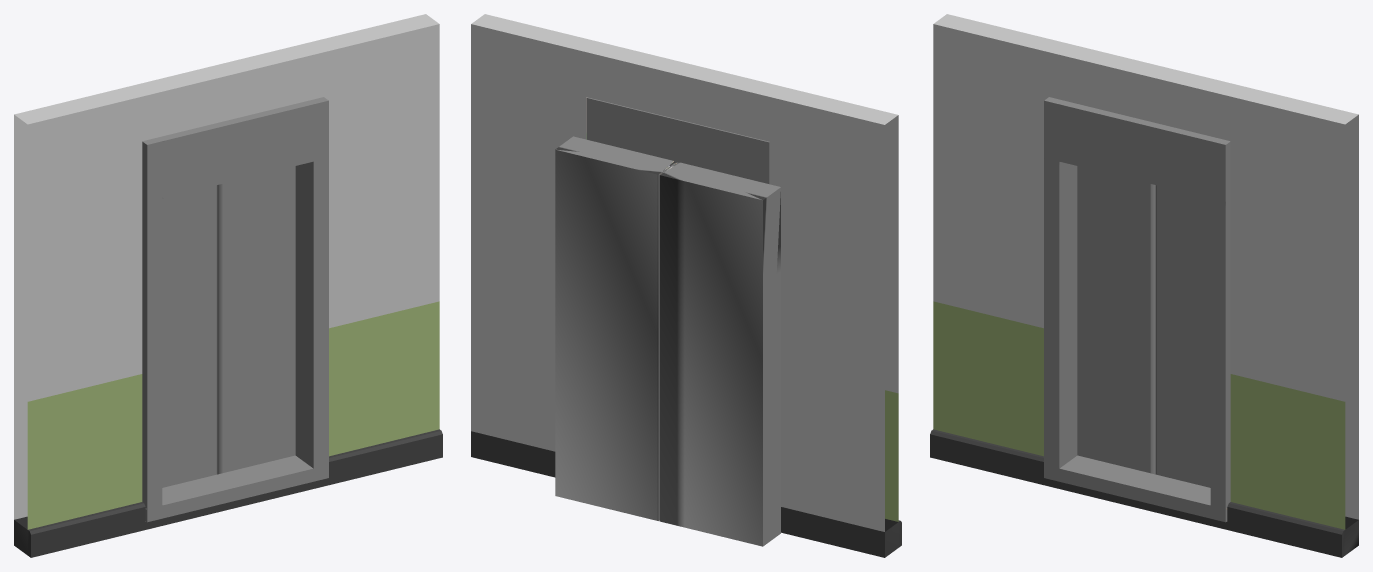
The model's file is Kinder3_Elevator.fbx.
3 renders of one model, left to right at view 1: azimuth 30°, elevation 25°; view 2: azimuth 150°, elevation 25°; view 3: azimuth 330°, elevation 25°, orthographic.
Parts seen in each view (by area): view 1: Elevator.001; view 2: Elevator.001; view 3: Elevator.001.
Boxes of the visible parts, x1=… form: Elevator.001: x1=14, y1=14, x2=442, y2=557; Elevator.001: x1=471, y1=14, x2=901, y2=557; Elevator.001: x1=930, y1=14, x2=1358, y2=557.
Bounding box in the file's own units: 250 × 250 × 38.7.
